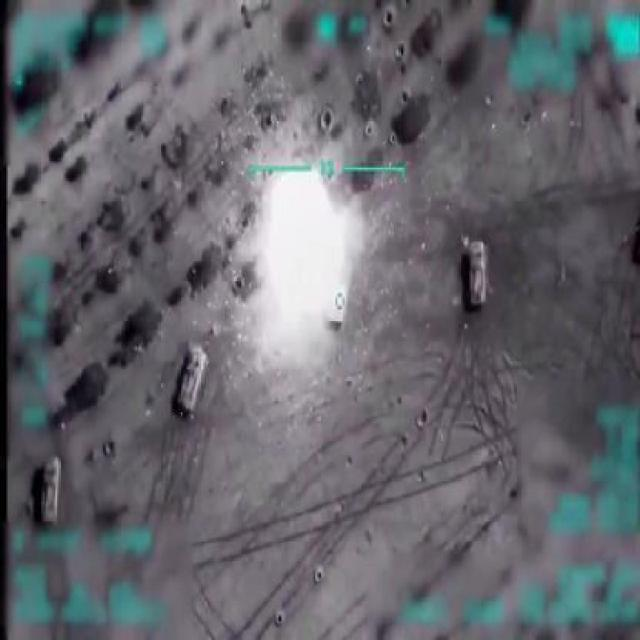Tanks: (171, 338, 207, 422), (465, 239, 490, 310), (38, 459, 62, 523)
